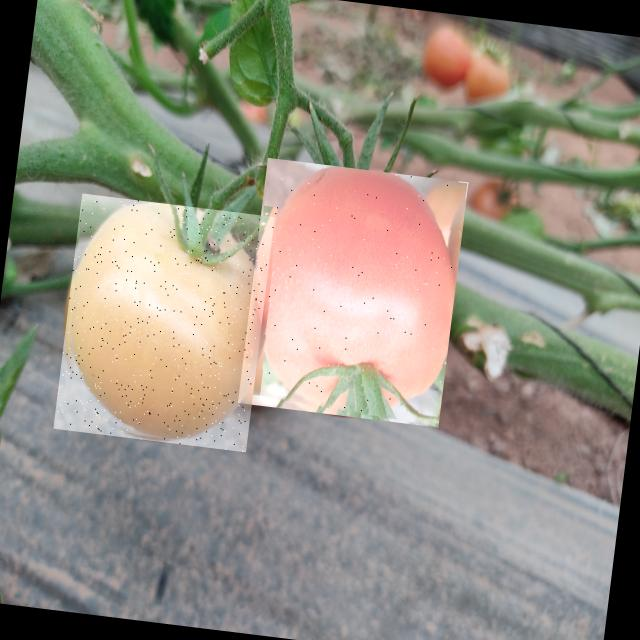Ripe Tomato: (237, 158, 468, 428)
Unripe Tomato: (53, 193, 274, 452)
